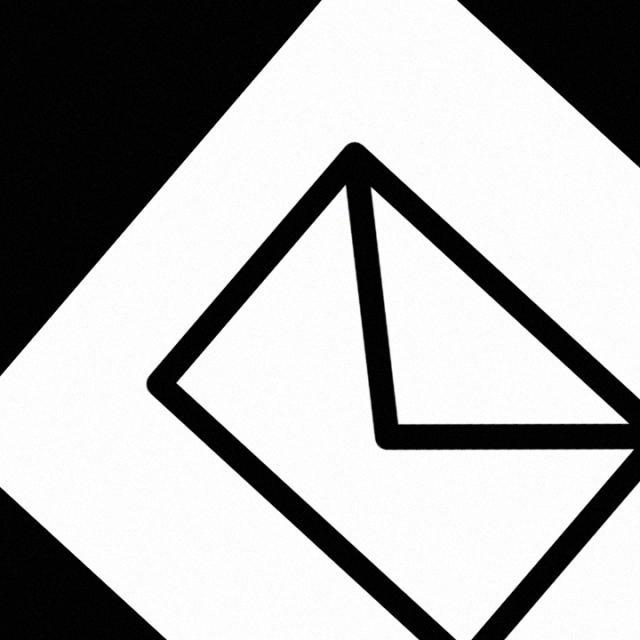letter: (129, 130, 637, 640)
